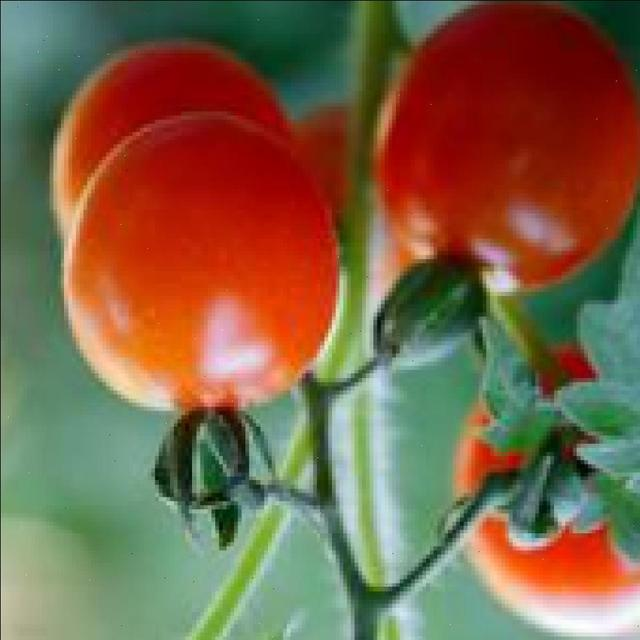Healthy Fruit: (112, 90, 363, 332)
